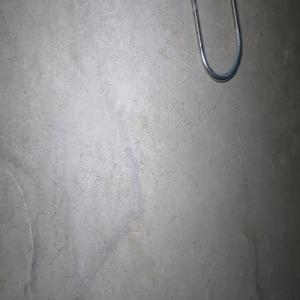ClampPart: (190, 0, 243, 83)
